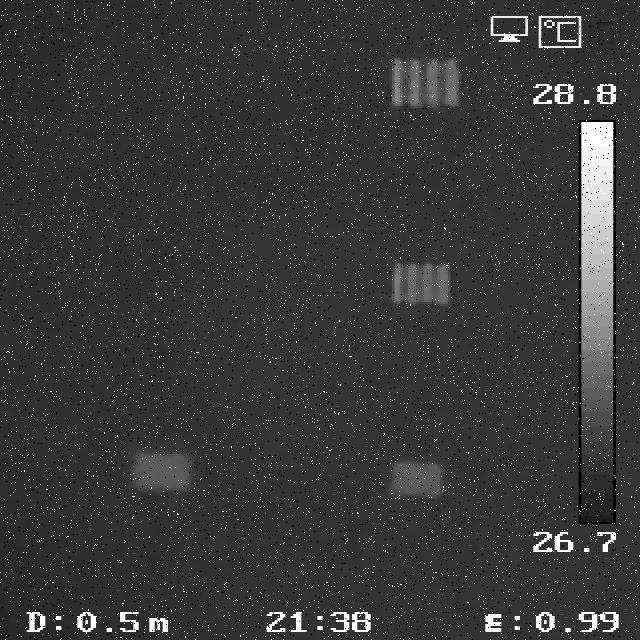Distinguishable 4-bar target: (385, 52, 467, 112), (385, 258, 455, 309)
Indistinguishable 4-bar target: (127, 448, 197, 494), (389, 457, 443, 497)
